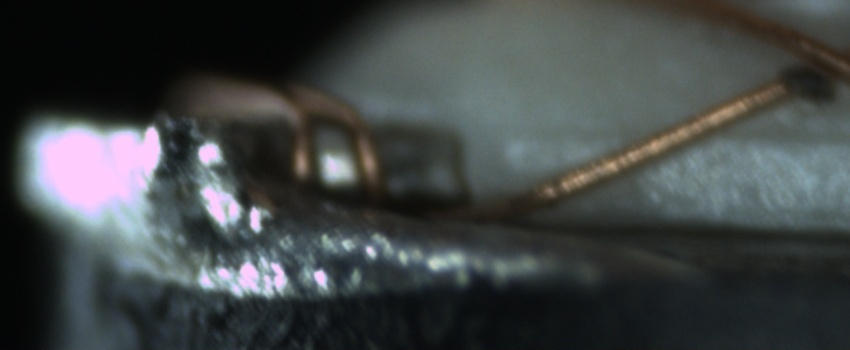DL: (519, 104, 850, 168)
TE: (163, 65, 405, 223)
